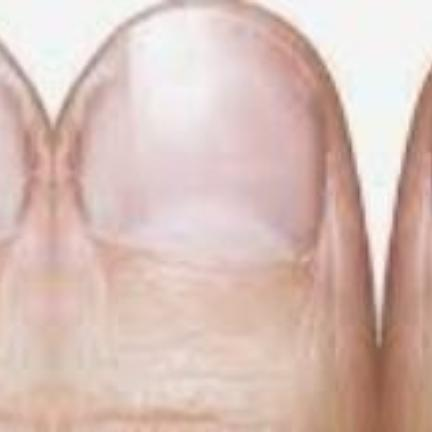Nail: (75, 8, 328, 263), (0, 56, 29, 233), (429, 103, 432, 211)
